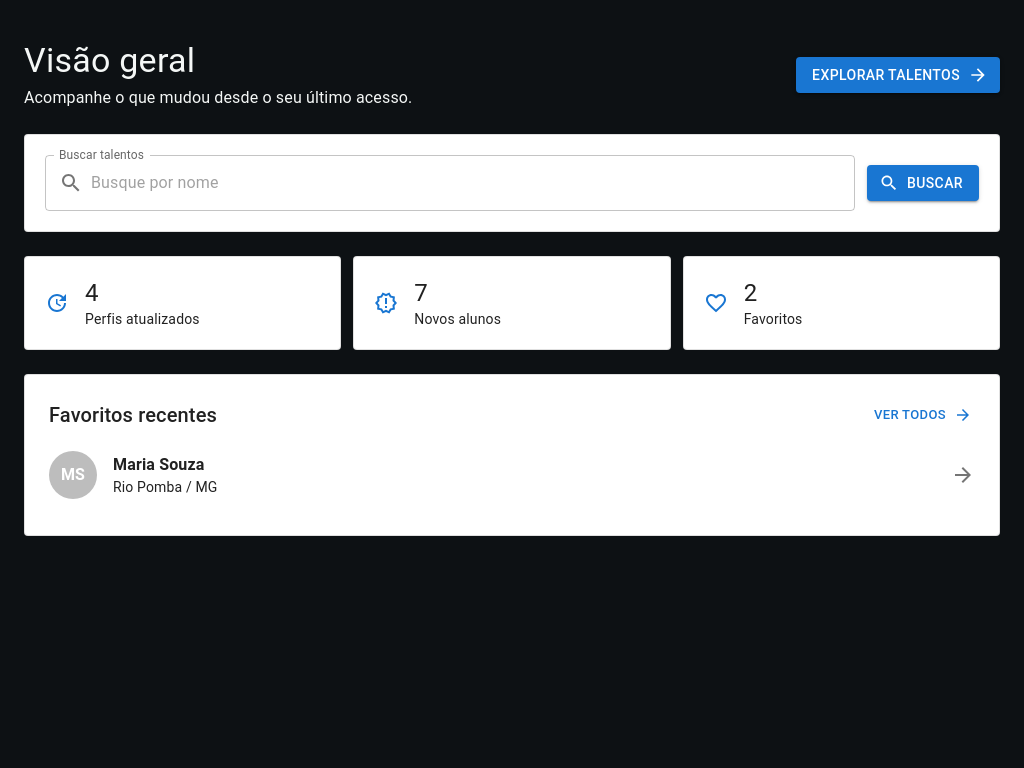
Test: RecruiterDashboardView › search › blocks a term with emoji, explains it and does not navigate
The width and height of the screenshot is (1024, 768).
Expected: the text "Maria Souza" is shown, [113,455,204,474]
Type "Maria 😀" into the field labelled "Buscar talentos" at point(473, 183), box [91,155,855,211]
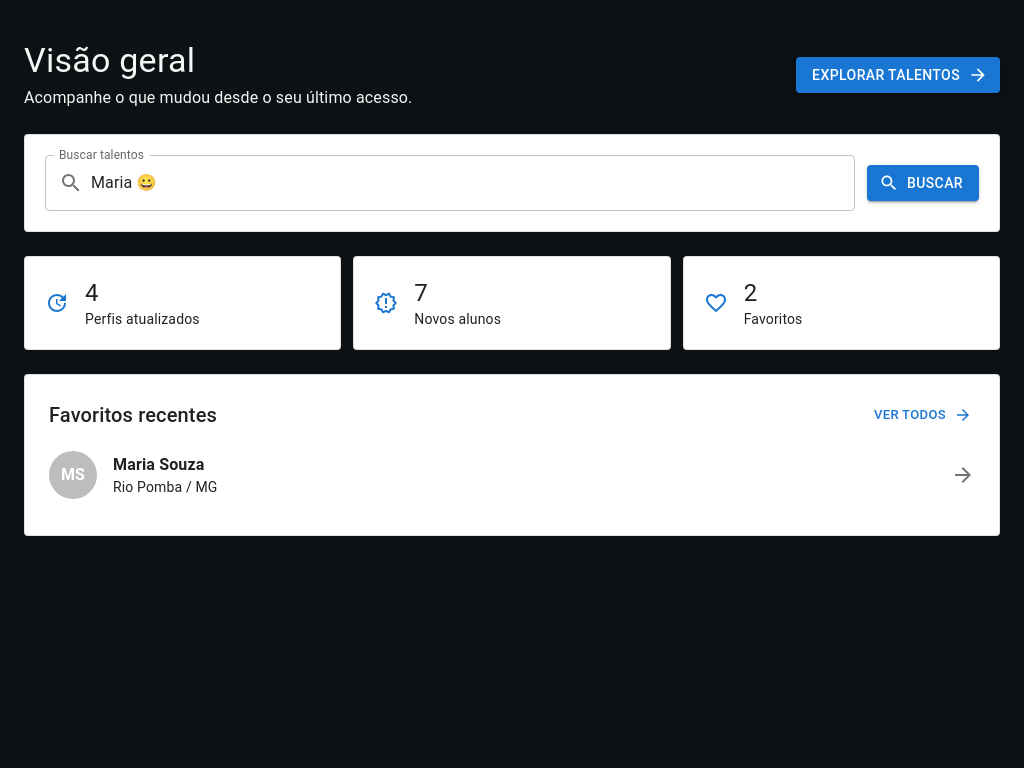
Click the button "Buscar" at point(923, 183), box [867,165,979,201]
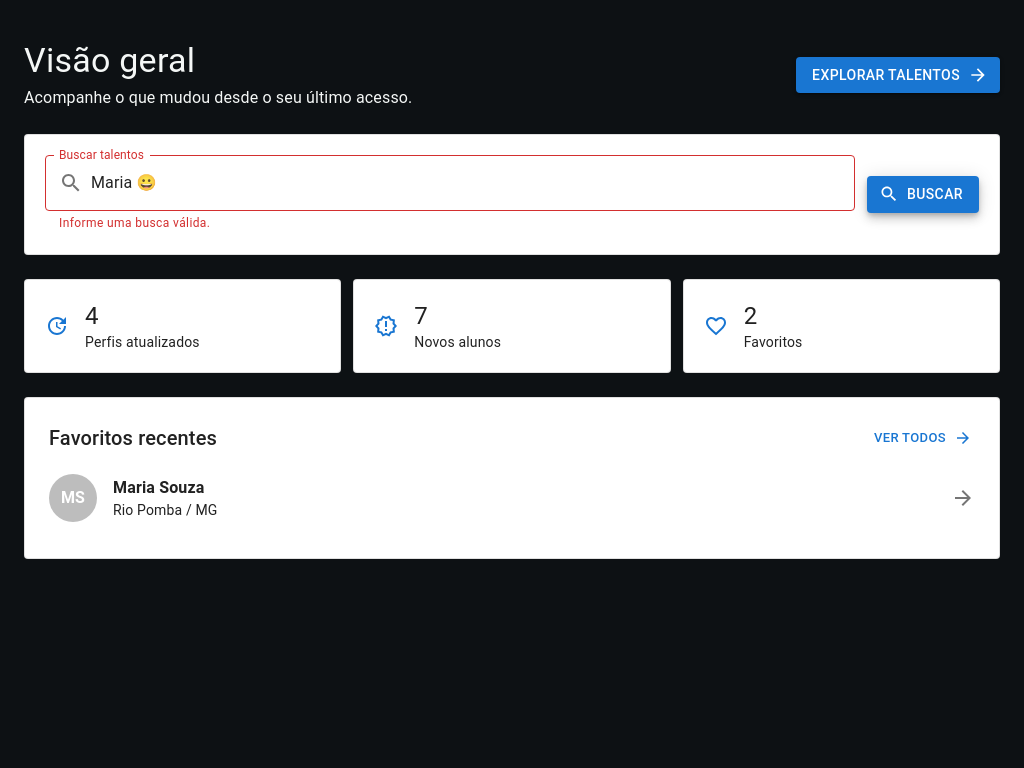
Now the text "Informe uma busca válida." is shown, box [59,216,210,230]
